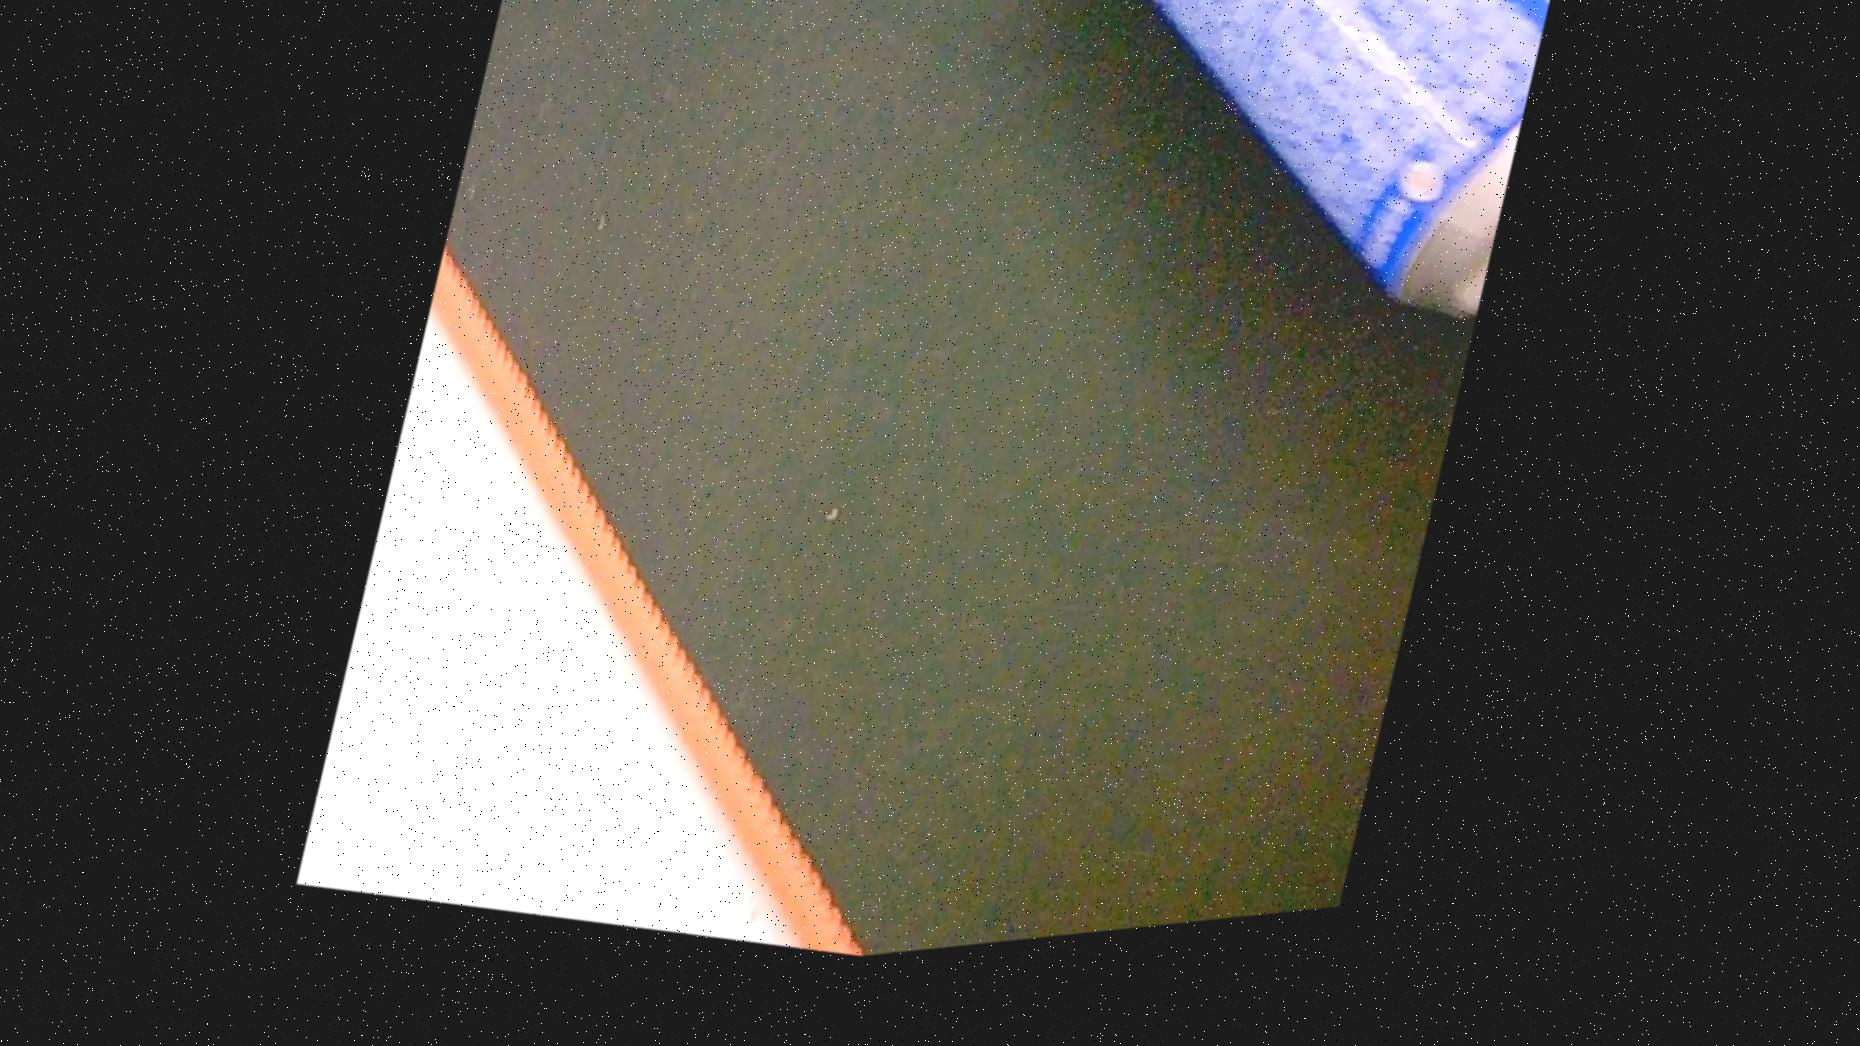letsbe: (943, 0, 1557, 396)
